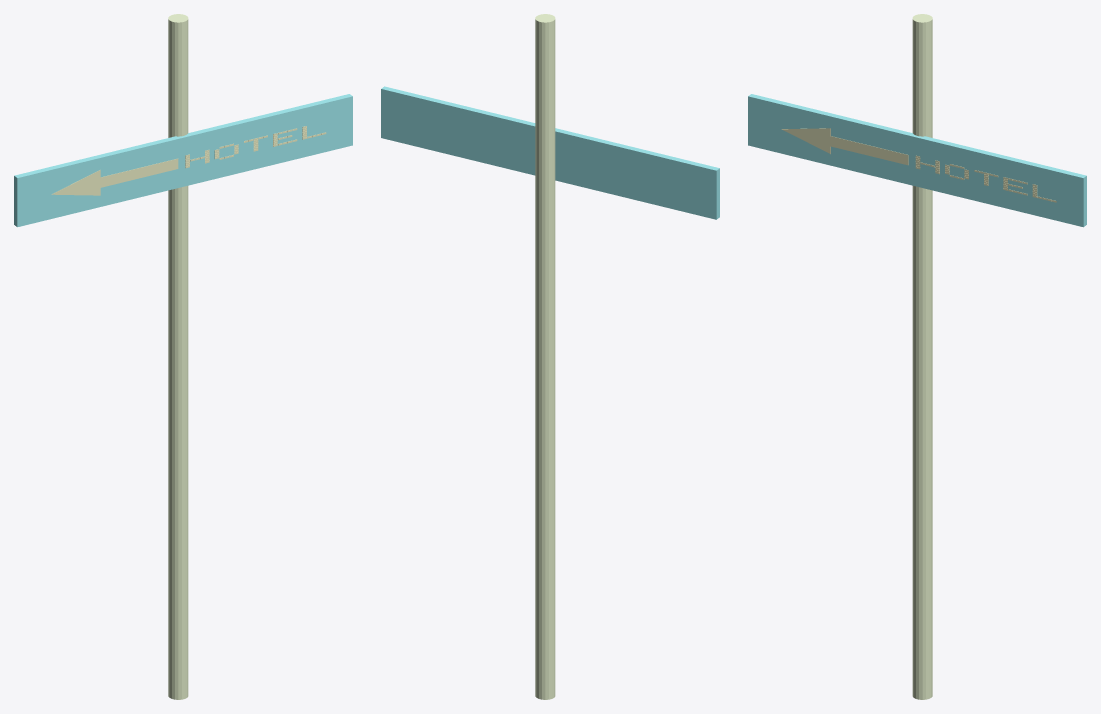
Rendered from sign_hotel_arrow_left.glb.
3 renders of one model, left to right at view 1: azimuth 30°, elevation 25°; view 2: azimuth 150°, elevation 25°; view 3: azimuth 330°, elevation 25°, orthographic.
Parts seen in each view (by area): view 1: plate_base_00, pole, layer_1_00, layer_1_01; view 2: plate_base_00, pole; view 3: plate_base_00, pole, layer_1_00, layer_1_01.
Part boxes in pixels (x1,y1,x2,y2): plate_base_00: (14,94,352,227); pole: (168,14,188,699); layer_1_00: (100,158,178,187); layer_1_01: (51,170,100,195); plate_base_00: (381,86,719,219); pole: (535,14,555,699); plate_base_00: (748,94,1086,227); pole: (912,14,932,699); layer_1_00: (830,136,908,165); layer_1_01: (781,128,830,153).
Bounding box in the file's own units: 1.14 × 2.2 × 0.071.
